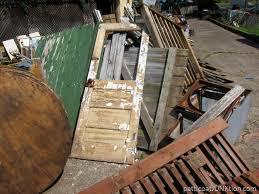wood: (81, 117, 250, 192), (74, 17, 151, 167)
